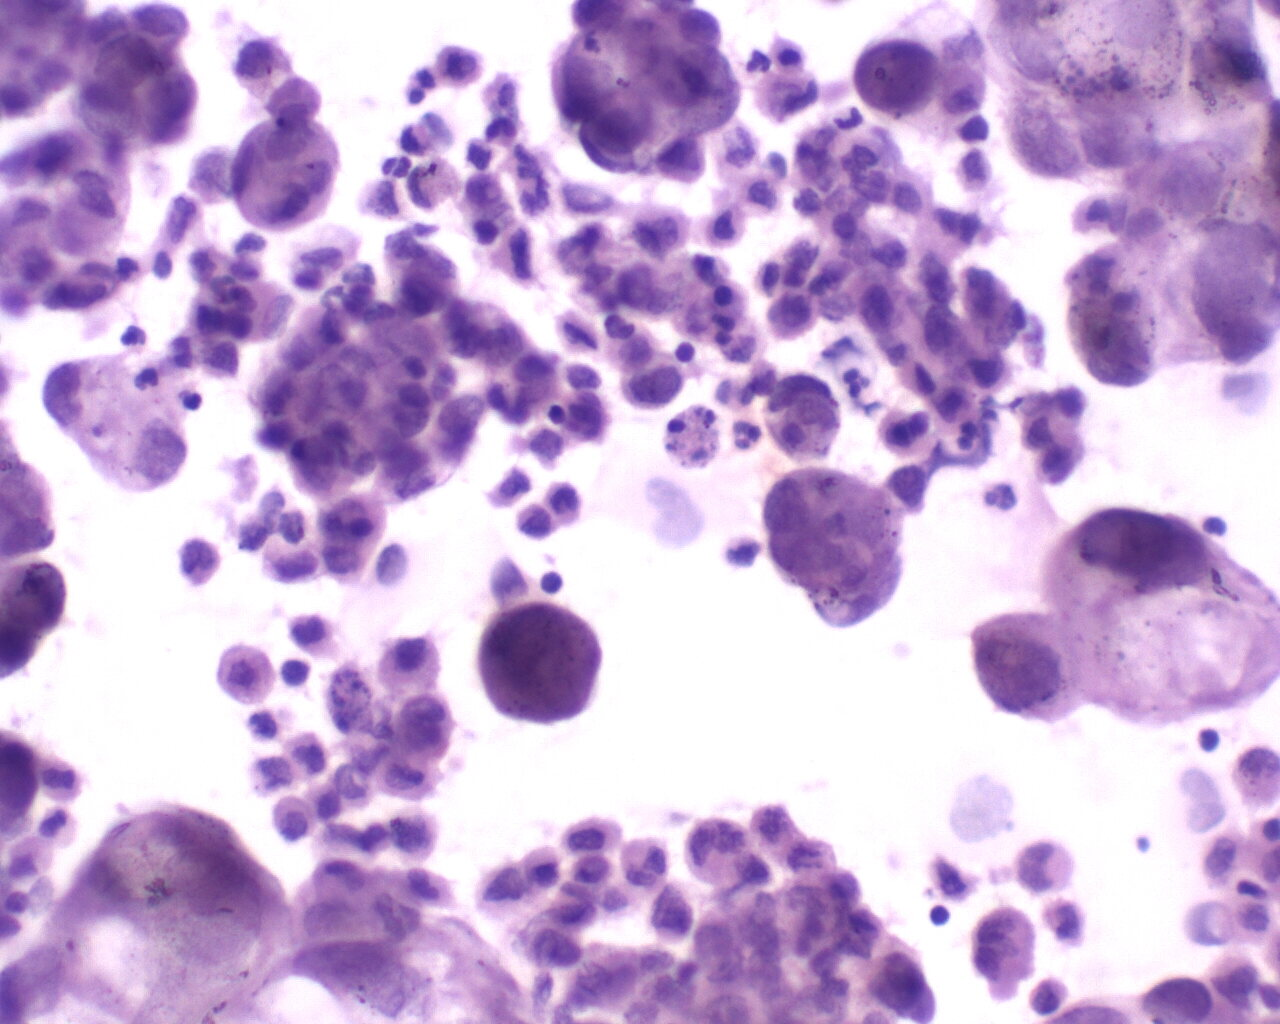ab: (1043, 492, 1280, 728), (959, 608, 1100, 734), (474, 597, 604, 727), (853, 27, 950, 122)
lymph: (924, 902, 954, 938)
meso: (367, 633, 444, 696), (212, 639, 279, 707)
